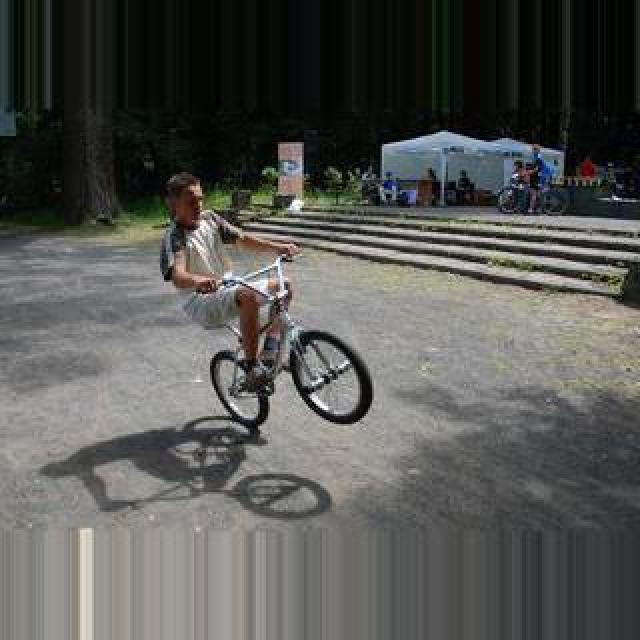MC-Bike: (158, 172, 302, 392), (506, 160, 546, 214)
Person: (206, 262, 374, 430), (496, 174, 568, 214)
